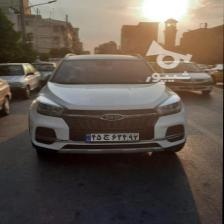plate: (84, 131, 140, 141)
